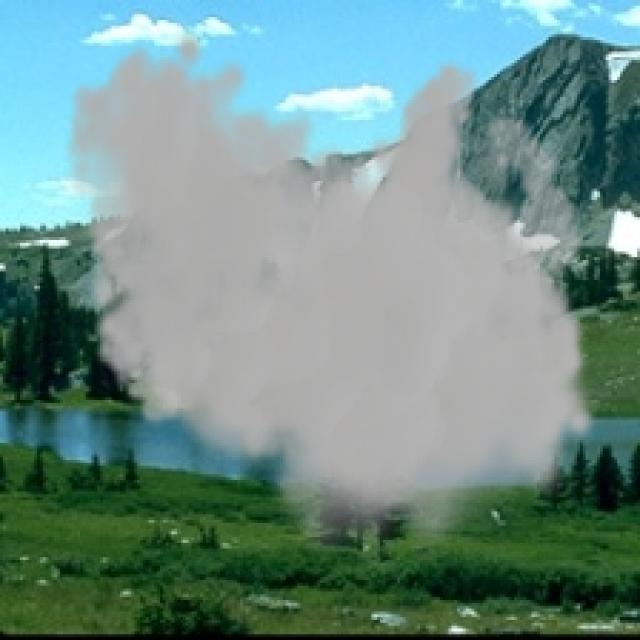smoke: (63, 26, 600, 566)
